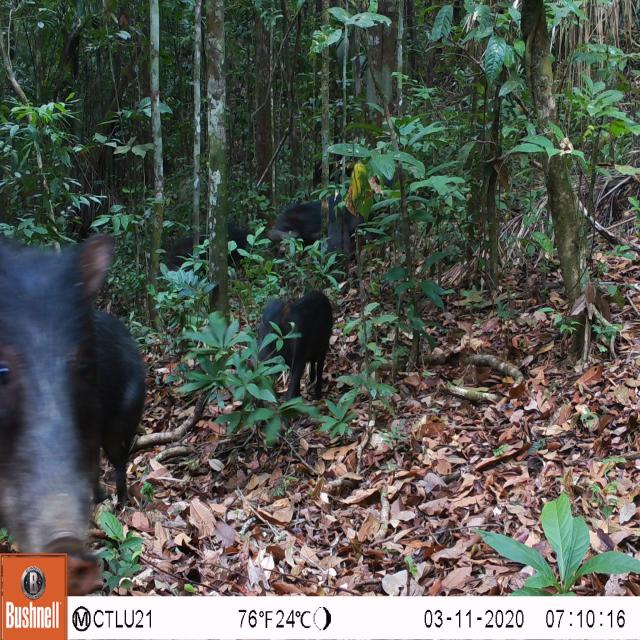White-lipped Peccary: (0, 222, 163, 594), (236, 287, 344, 400), (262, 193, 327, 266)
